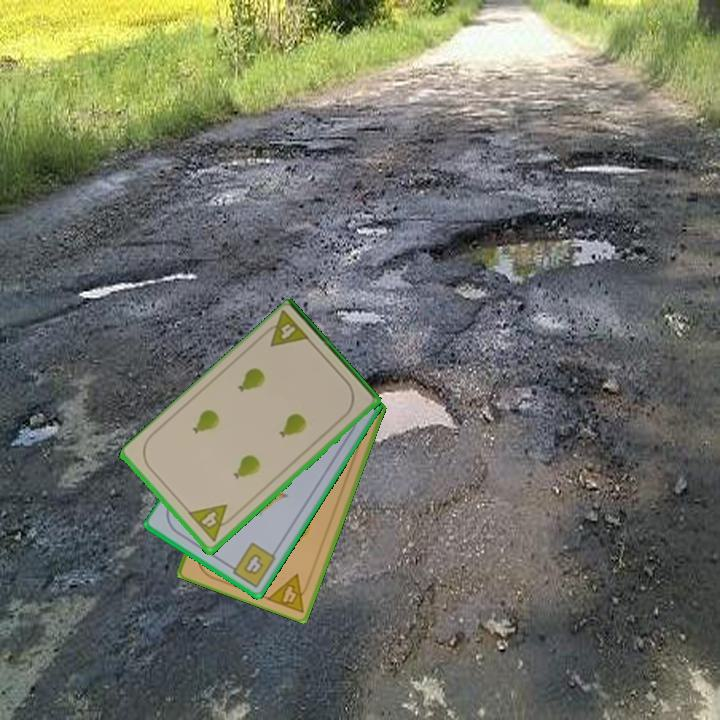4b: (224, 539, 279, 591)
4p: (263, 570, 315, 615), (185, 501, 238, 545), (258, 308, 313, 350)
